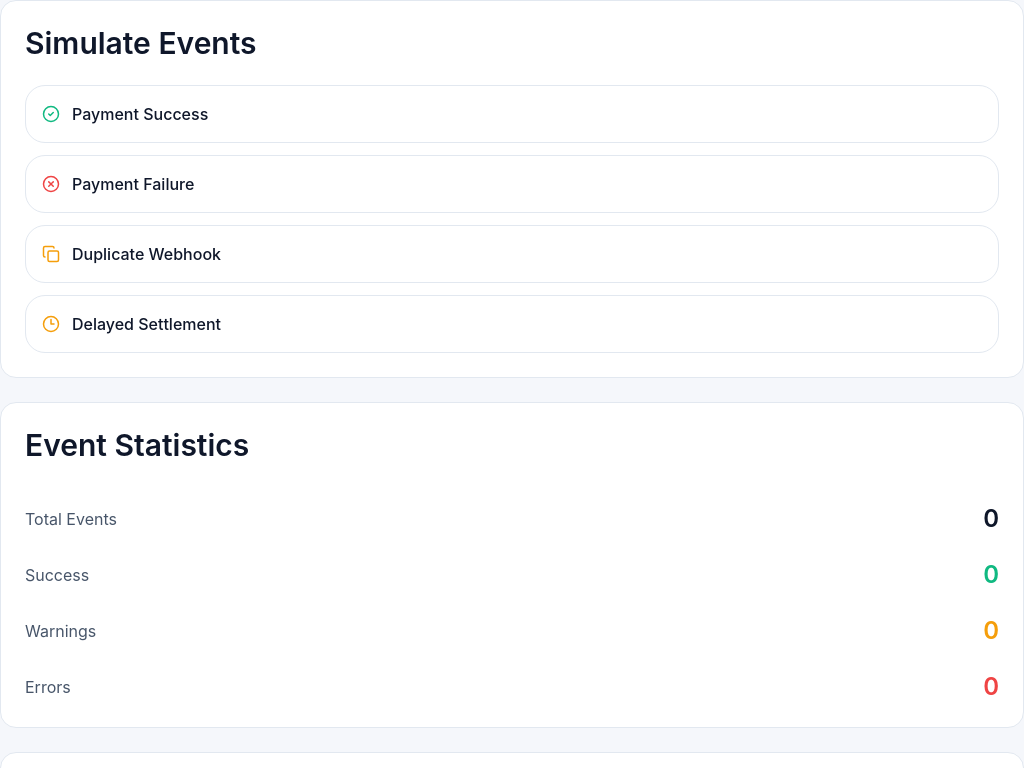
Test: SimulatorPage › adds a log when simulating an event
The image size is (1024, 768).
What coordinates should you click on to do the following:
click the button "Payment Success"
I would click on:
 (140, 114)
Its box is top-left (25, 85), bottom-right (999, 143).
(page scrolled)
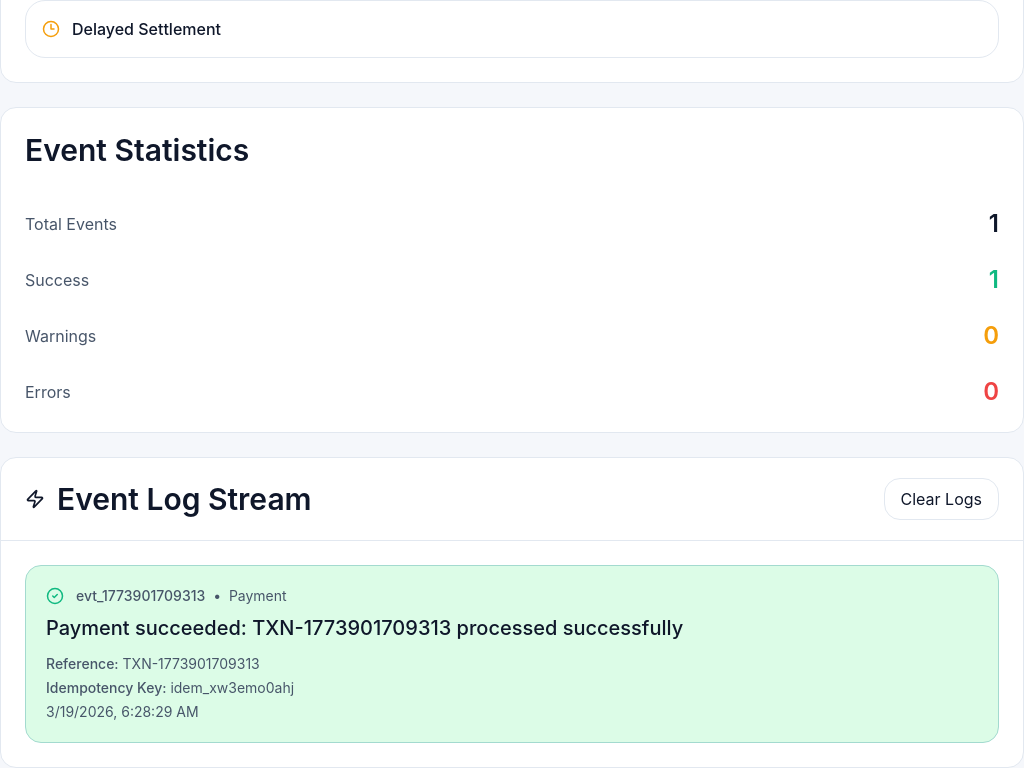
Expected: the text "Payment succeeded: TXN-1773901709313 processed successfully" is shown, top-left (46, 616), bottom-right (683, 640)
